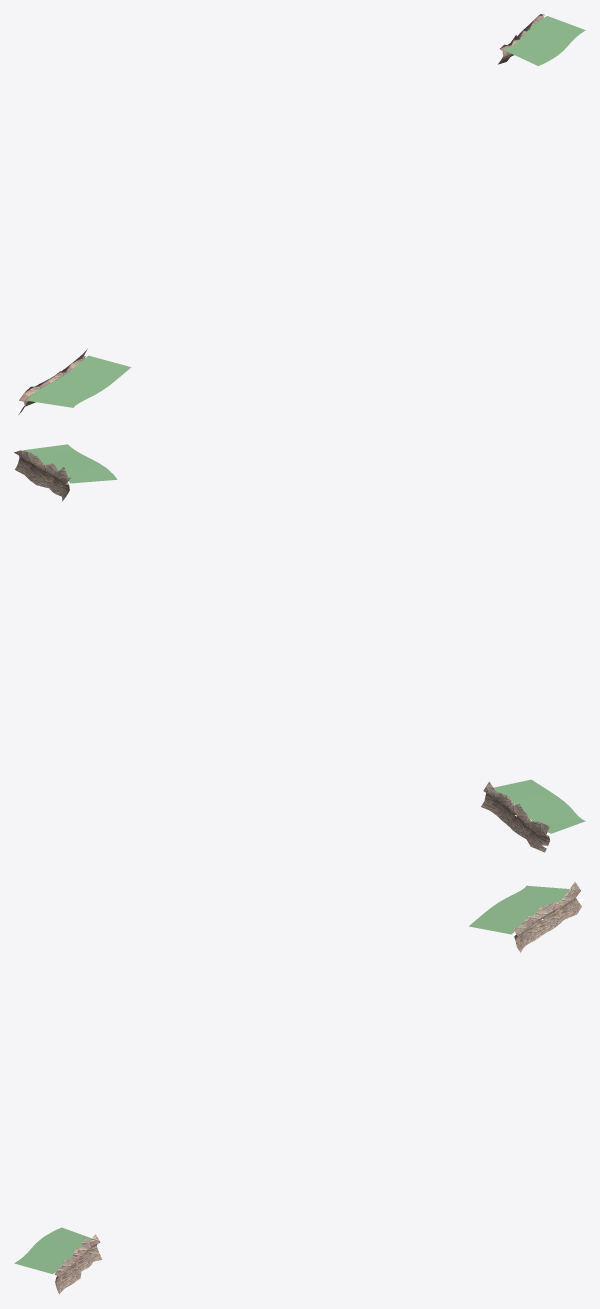
File: CliffWall_plateau_shore2.glb
3 renders of one model, top to bottom at view 1: azimuth 90°, elevation 25°; view 2: azimuth 150°, elevation 25°; view 3: azimuth 270°, elevation 25°, orthographic.
Parts seen in each view (by area): view 1: CliffWall_plateau_shore2-lip0, CliffWall_plateau_shore2-lip1, CliffWall_plateau_shore2-rock0; view 2: CliffWall_plateau_shore2-lip0, CliffWall_plateau_shore2-rock0, CliffWall_plateau_shore2-lip1, CliffWall_plateau_shore2-rock1; view 3: CliffWall_plateau_shore2-lip0, CliffWall_plateau_shore2-lip1, CliffWall_plateau_shore2-rock0, CliffWall_plateau_shore2-rock1.
Part boxes in pixels (<box>): CliffWall_plateau_shore2-lip0: <box>26,355,131,407</box>; CliffWall_plateau_shore2-lip1: <box>504,16,585,65</box>; CliffWall_plateau_shore2-rock0: <box>18,349,87,414</box>; CliffWall_plateau_shore2-lip0: <box>493,779,585,833</box>; CliffWall_plateau_shore2-rock0: <box>481,781,549,852</box>; CliffWall_plateau_shore2-lip1: <box>22,444,117,483</box>; CliffWall_plateau_shore2-rock1: <box>14,450,71,501</box>; CliffWall_plateau_shore2-lip0: <box>469,885,569,934</box>; CliffWall_plateau_shore2-lip1: <box>14,1227,91,1274</box>; CliffWall_plateau_shore2-rock0: <box>512,881,581,952</box>; CliffWall_plateau_shore2-rock1: <box>54,1234,102,1294</box>.
Bounding box in the file's own units: 698 × 22.6 × 430.
4 materials, 1 textured.
